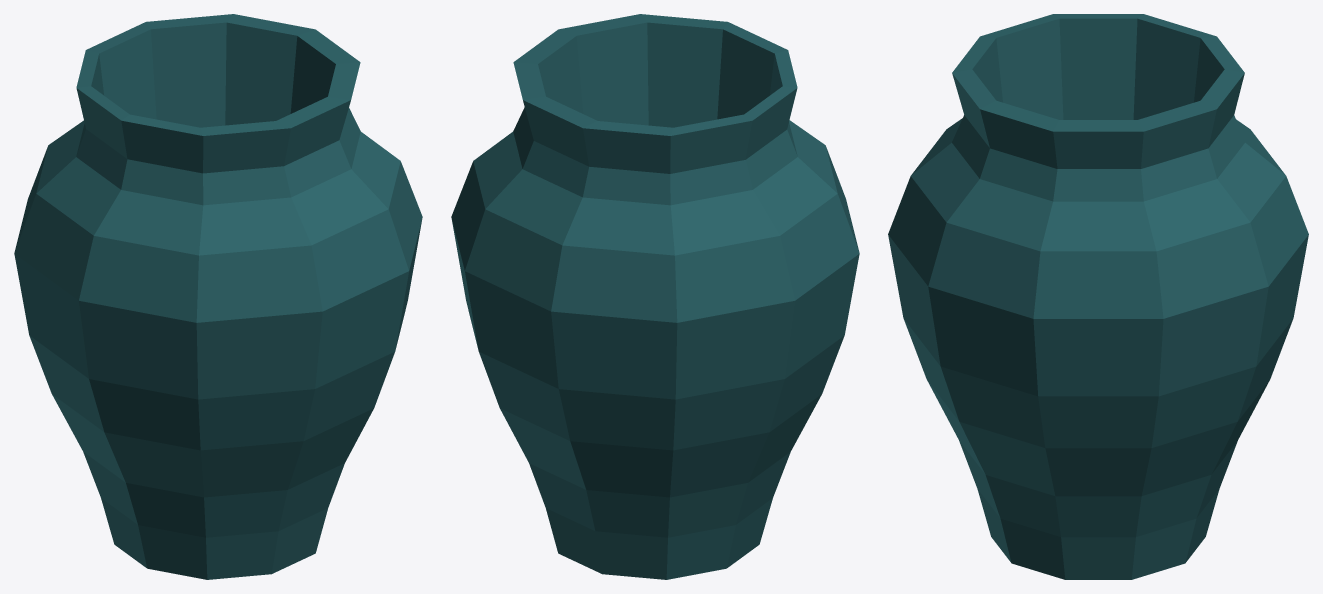
The model's file is florero.fbx.
3 renders of one model, left to right at view 1: azimuth 30°, elevation 25°; view 2: azimuth 150°, elevation 25°; view 3: azimuth 270°, elevation 25°, orthographic.
Visible parts, largest first — view 1: Cylinder; view 2: Cylinder; view 3: Cylinder.
Part boxes in pixels (x1=…): Cylinder: x1=14, y1=14, x2=422, y2=579; Cylinder: x1=451, y1=14, x2=859, y2=579; Cylinder: x1=888, y1=14, x2=1308, y2=579.
Bounding box in the file's own units: 160 × 205 × 168.
